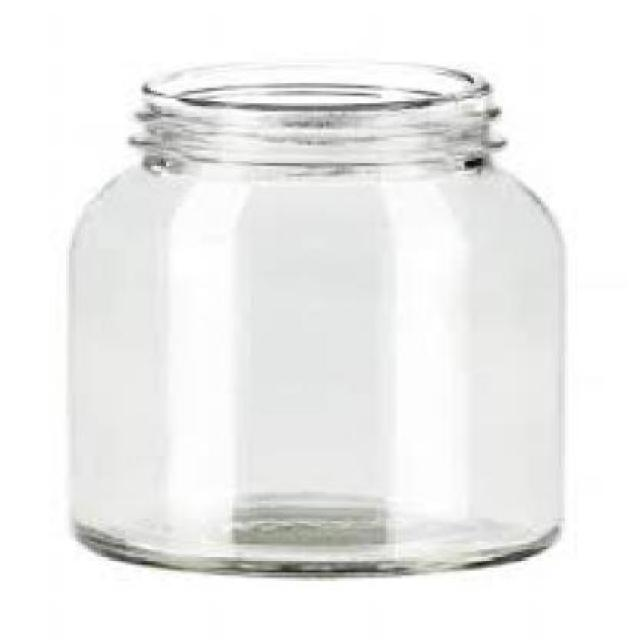kaca: (63, 60, 555, 572)
